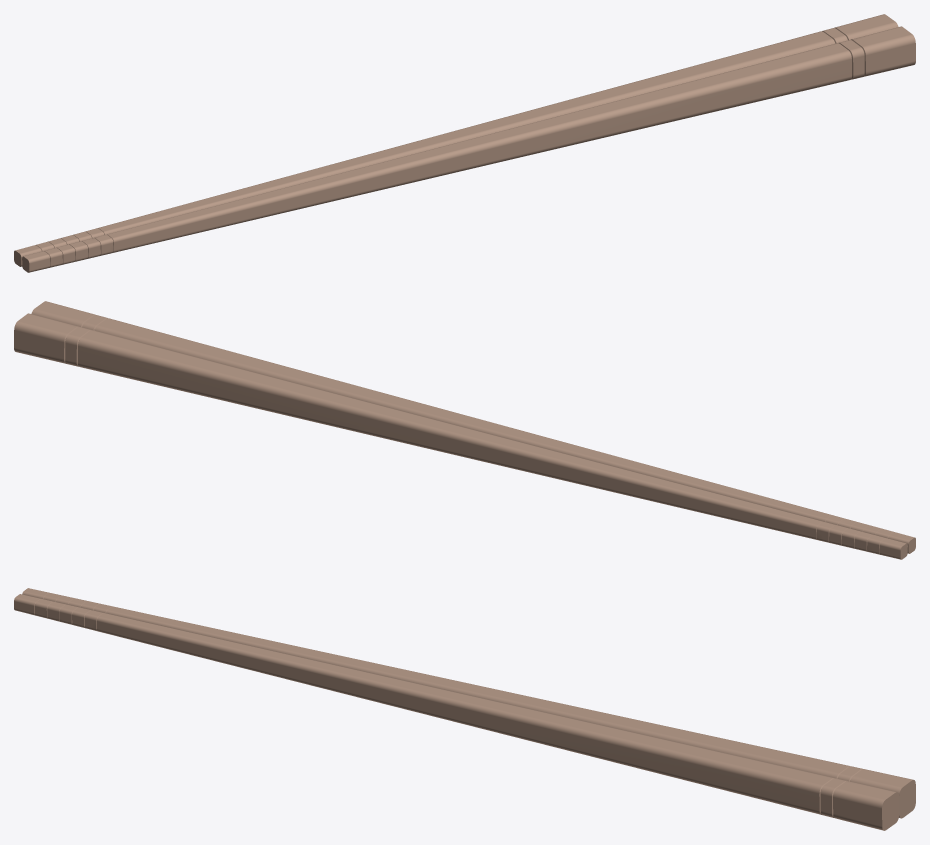
The picture shows the model from 3 angles, top to bottom: view 1: azimuth 30°, elevation 25°; view 2: azimuth 150°, elevation 25°; view 3: azimuth 330°, elevation 25°; orthographic projection.
Visible parts, largest first — view 1: Body; view 2: Body; view 3: Body.
Part boxes in pixels (x1,y1,x2,y2): Body: (14,14,915,272); Body: (14,301,915,559); Body: (14,588,915,830).
Size of the model in its own units: 21.01 by 0.7003 by 1.4.
